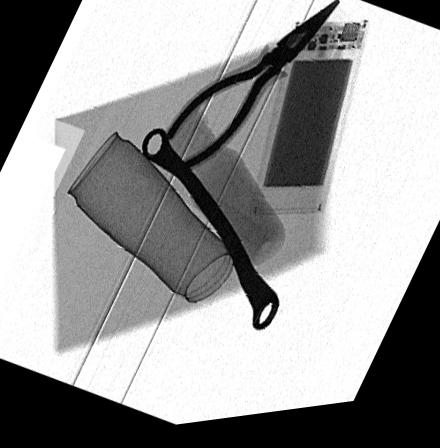Pliers: (163, 7, 339, 183)
Powerbank: (248, 31, 366, 223)
Wrench: (140, 132, 279, 340)
